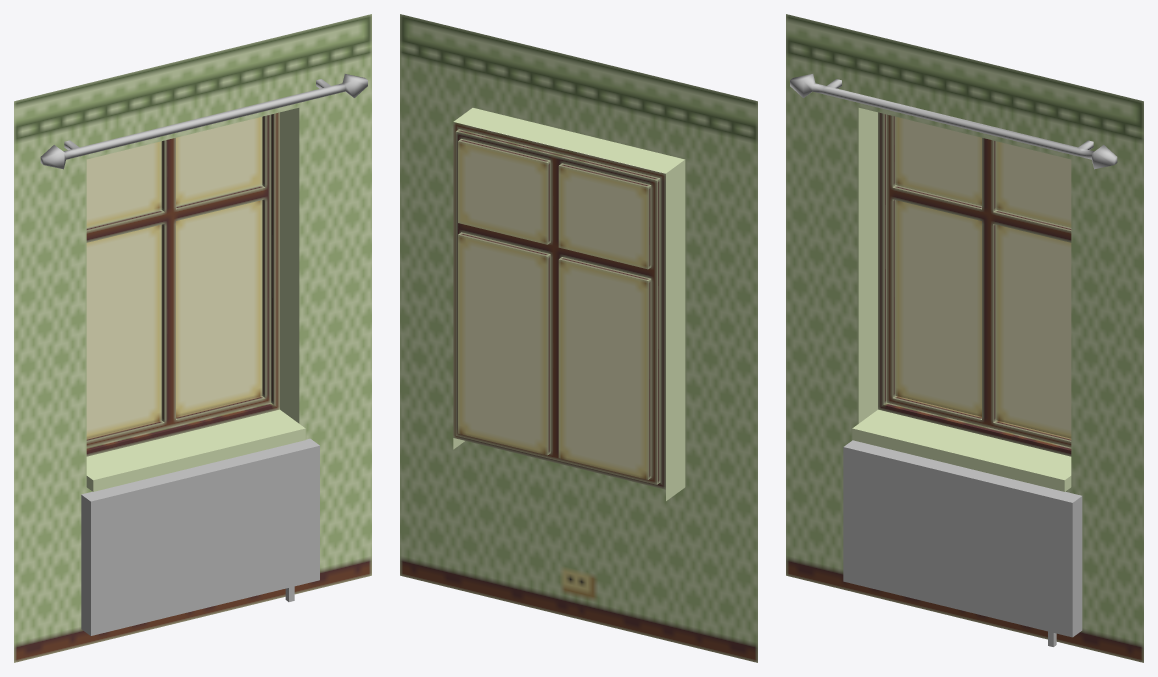
Rendered from SM_WallWin.fbx.
3 renders of one model, left to right at view 1: azimuth 30°, elevation 25°; view 2: azimuth 150°, elevation 25°; view 3: azimuth 330°, elevation 25°, orthographic.
Visible parts, largest first — view 1: WallWin.001; view 2: WallWin.001; view 3: WallWin.001.
Boxes of the visible parts, box(x1,y1,x2,y2) form: WallWin.001: box(14, 14, 371, 662); WallWin.001: box(400, 14, 757, 662); WallWin.001: box(786, 14, 1143, 662).
Bounding box in the file's own units: 200 × 300 × 40.66.
